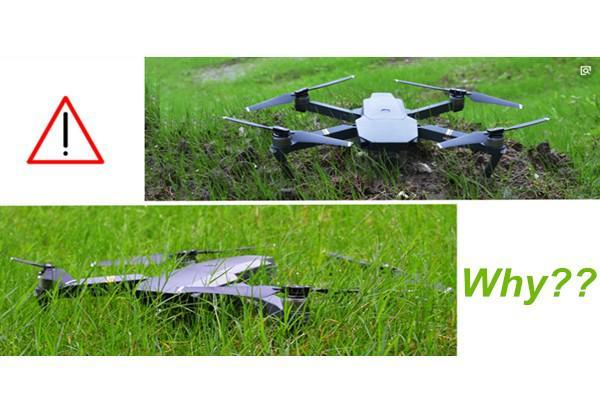drone: (207, 57, 551, 199), (6, 233, 393, 337)
